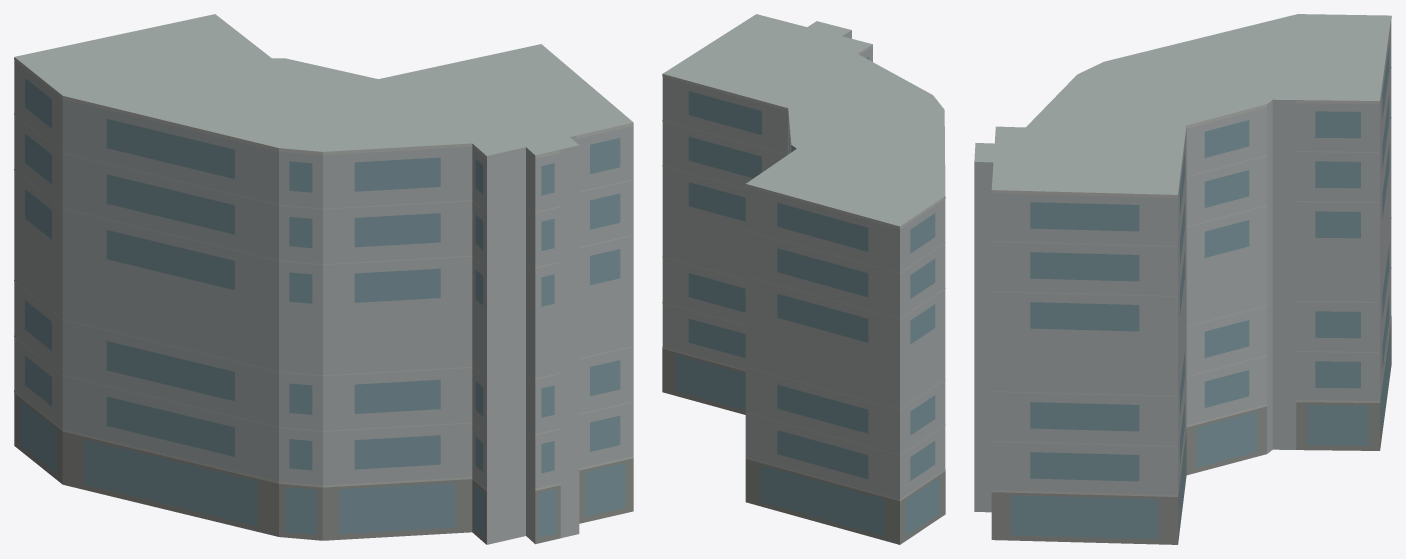
Rendered from survey-upis-32758420.glb.
3 views of the same model, side by side, from view 1: azimuth 30°, elevation 25°; view 2: azimuth 150°, elevation 25°; view 3: azimuth 270°, elevation 25° (orthographic). The views are drawn at different scales.
Visible parts, largest first — view 1: survey-upis-32758420.tmp; view 2: survey-upis-32758420.tmp; view 3: survey-upis-32758420.tmp.
Boxes of the visible parts, x1,y1,x2,y2 form: survey-upis-32758420.tmp: [14, 14, 633, 544]; survey-upis-32758420.tmp: [662, 14, 945, 544]; survey-upis-32758420.tmp: [974, 14, 1391, 544].
Size of the model in its own units: 30.06 by 27.08 by 29.26.
